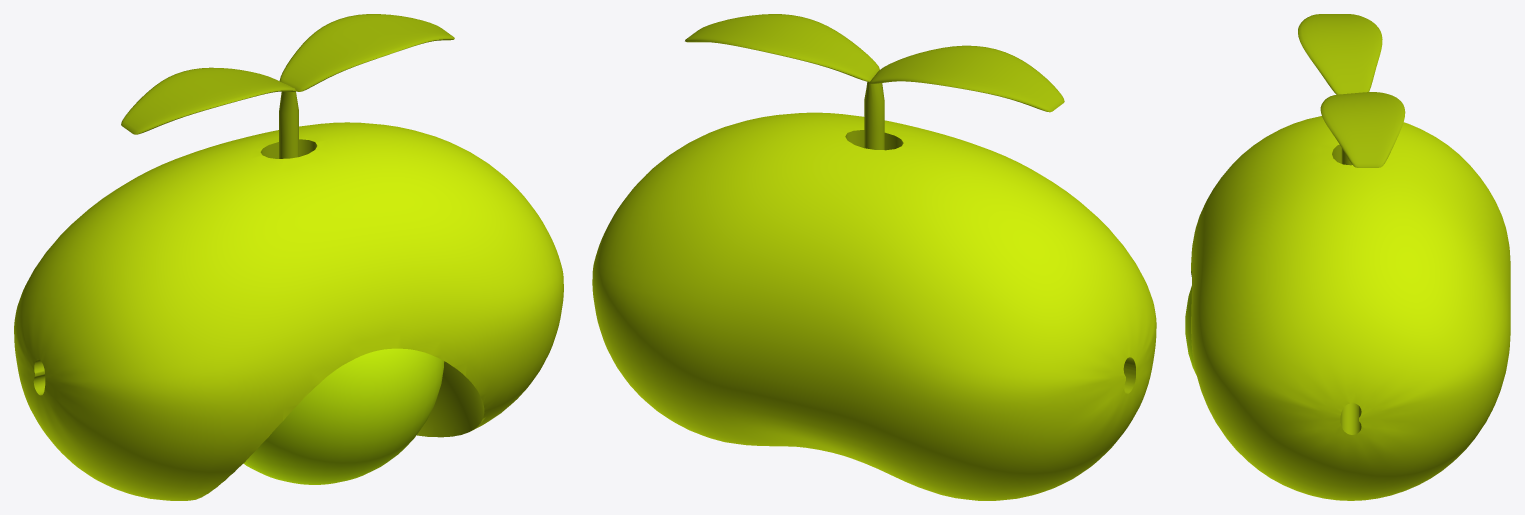
File: metakong.glb
The picture shows the model from 3 angles, left to right: view 1: azimuth 30°, elevation 25°; view 2: azimuth 150°, elevation 25°; view 3: azimuth 270°, elevation 25°; orthographic projection. The views are drawn at different scales.
Parts seen in each view (by area): view 1: h, k, Cube_1, Cube, Cylinder; view 2: h, Cube, Cube_1, Cylinder; view 3: h, Cube, Cube_1, k.
Part boxes in pixels (bbox=[...]): h: bbox=[14, 122, 563, 500]; k: bbox=[243, 348, 444, 484]; Cube_1: bbox=[279, 14, 454, 91]; Cube: bbox=[121, 67, 296, 134]; Cylinder: bbox=[279, 88, 298, 158]; h: bbox=[592, 112, 1156, 500]; Cube: bbox=[869, 45, 1064, 112]; Cube_1: bbox=[685, 14, 879, 81]; Cylinder: bbox=[864, 71, 884, 149]; h: bbox=[1191, 116, 1510, 500]; Cube: bbox=[1298, 14, 1382, 94]; Cube_1: bbox=[1320, 92, 1405, 167]; k: bbox=[1185, 286, 1196, 374].
Bounding box in the file's own units: 290 × 222 × 179.
